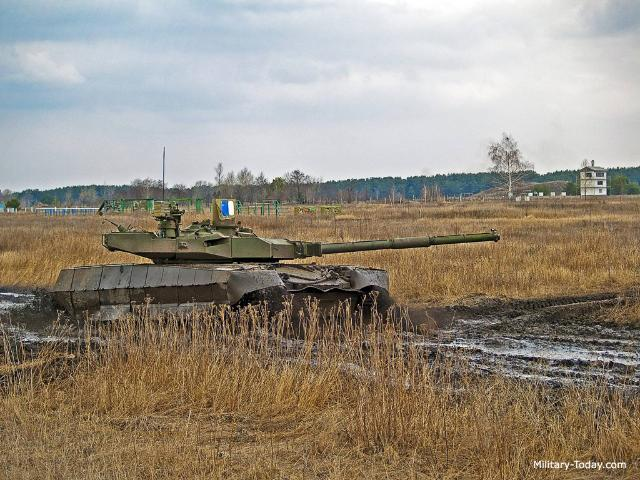tank: (51, 224, 389, 328)
